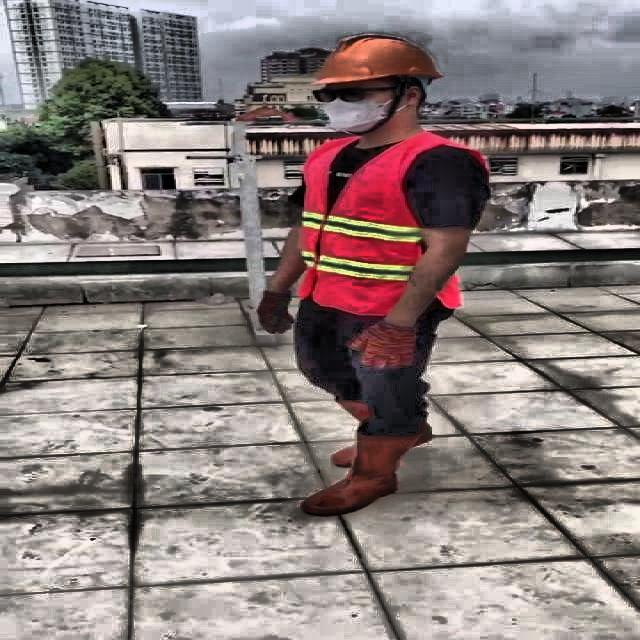safety_helmet: (309, 34, 440, 86)
safety_jacket: (299, 134, 473, 313)
